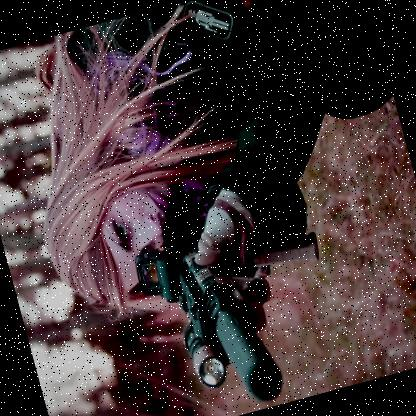rifle: (86, 164, 354, 416)
